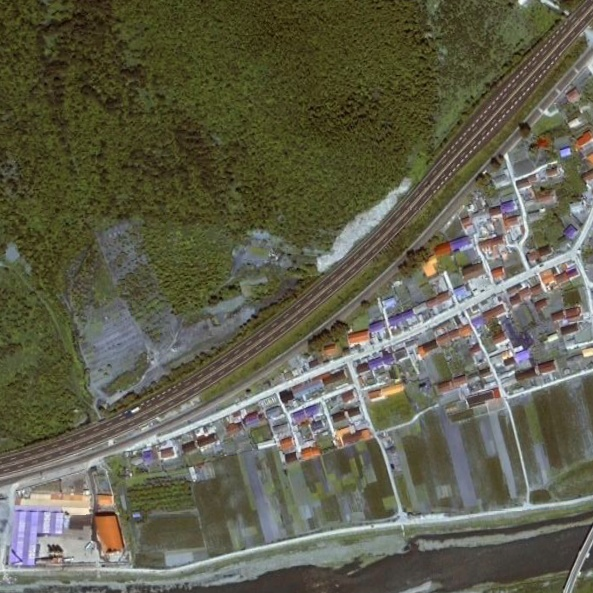slope: (312, 171, 415, 275)
